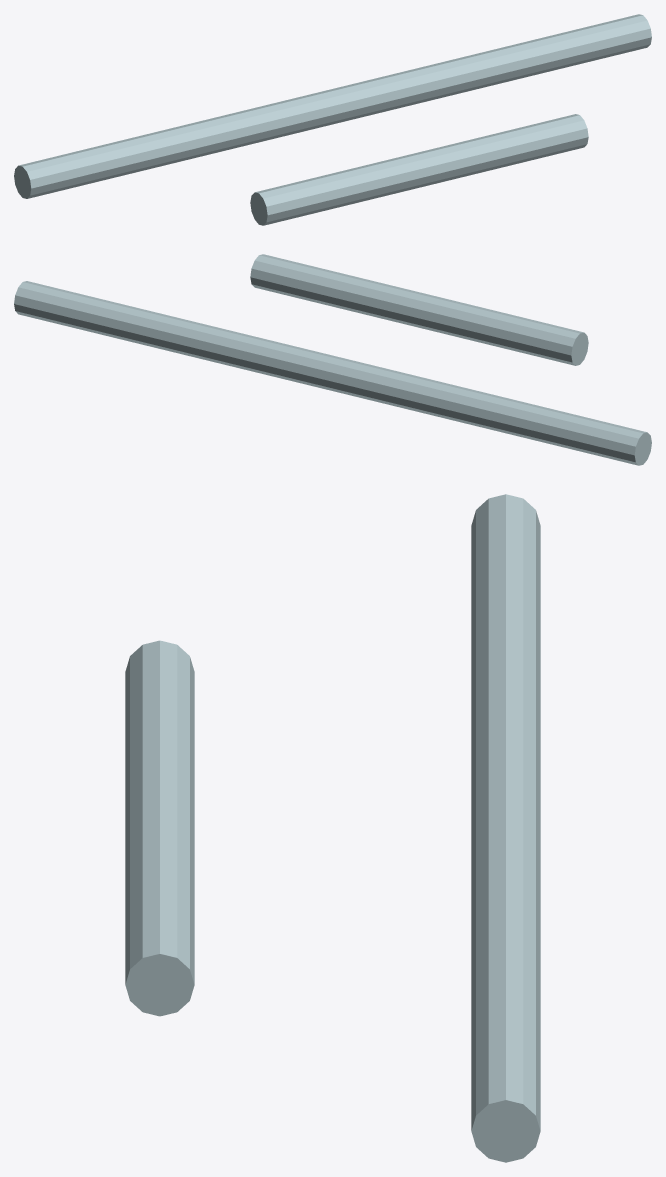
File: grab-bar-set.glb
3 views of the same model, one above another, from view 1: azimuth 30°, elevation 25°; view 2: azimuth 150°, elevation 25°; view 3: azimuth 270°, elevation 25° (orthographic). The views are drawn at different scales.
Parts seen in each view (by area): view 1: world; view 2: world; view 3: world.
Part boxes in pixels (x1,y1,x2,y2): world: (14, 14, 651, 225); world: (14, 254, 651, 465); world: (125, 494, 540, 1162).
Size of the model in its own units: 1.45 by 0.07 by 0.42.
